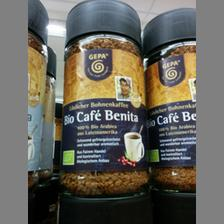Kaffee: (58, 0, 146, 196), (140, 6, 196, 190)
